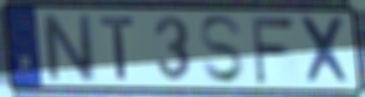3: (152, 14, 192, 84)
F: (248, 15, 296, 86)
N: (38, 11, 99, 84)
S: (196, 14, 248, 87)
T: (97, 15, 138, 82)
X: (296, 15, 355, 88)
